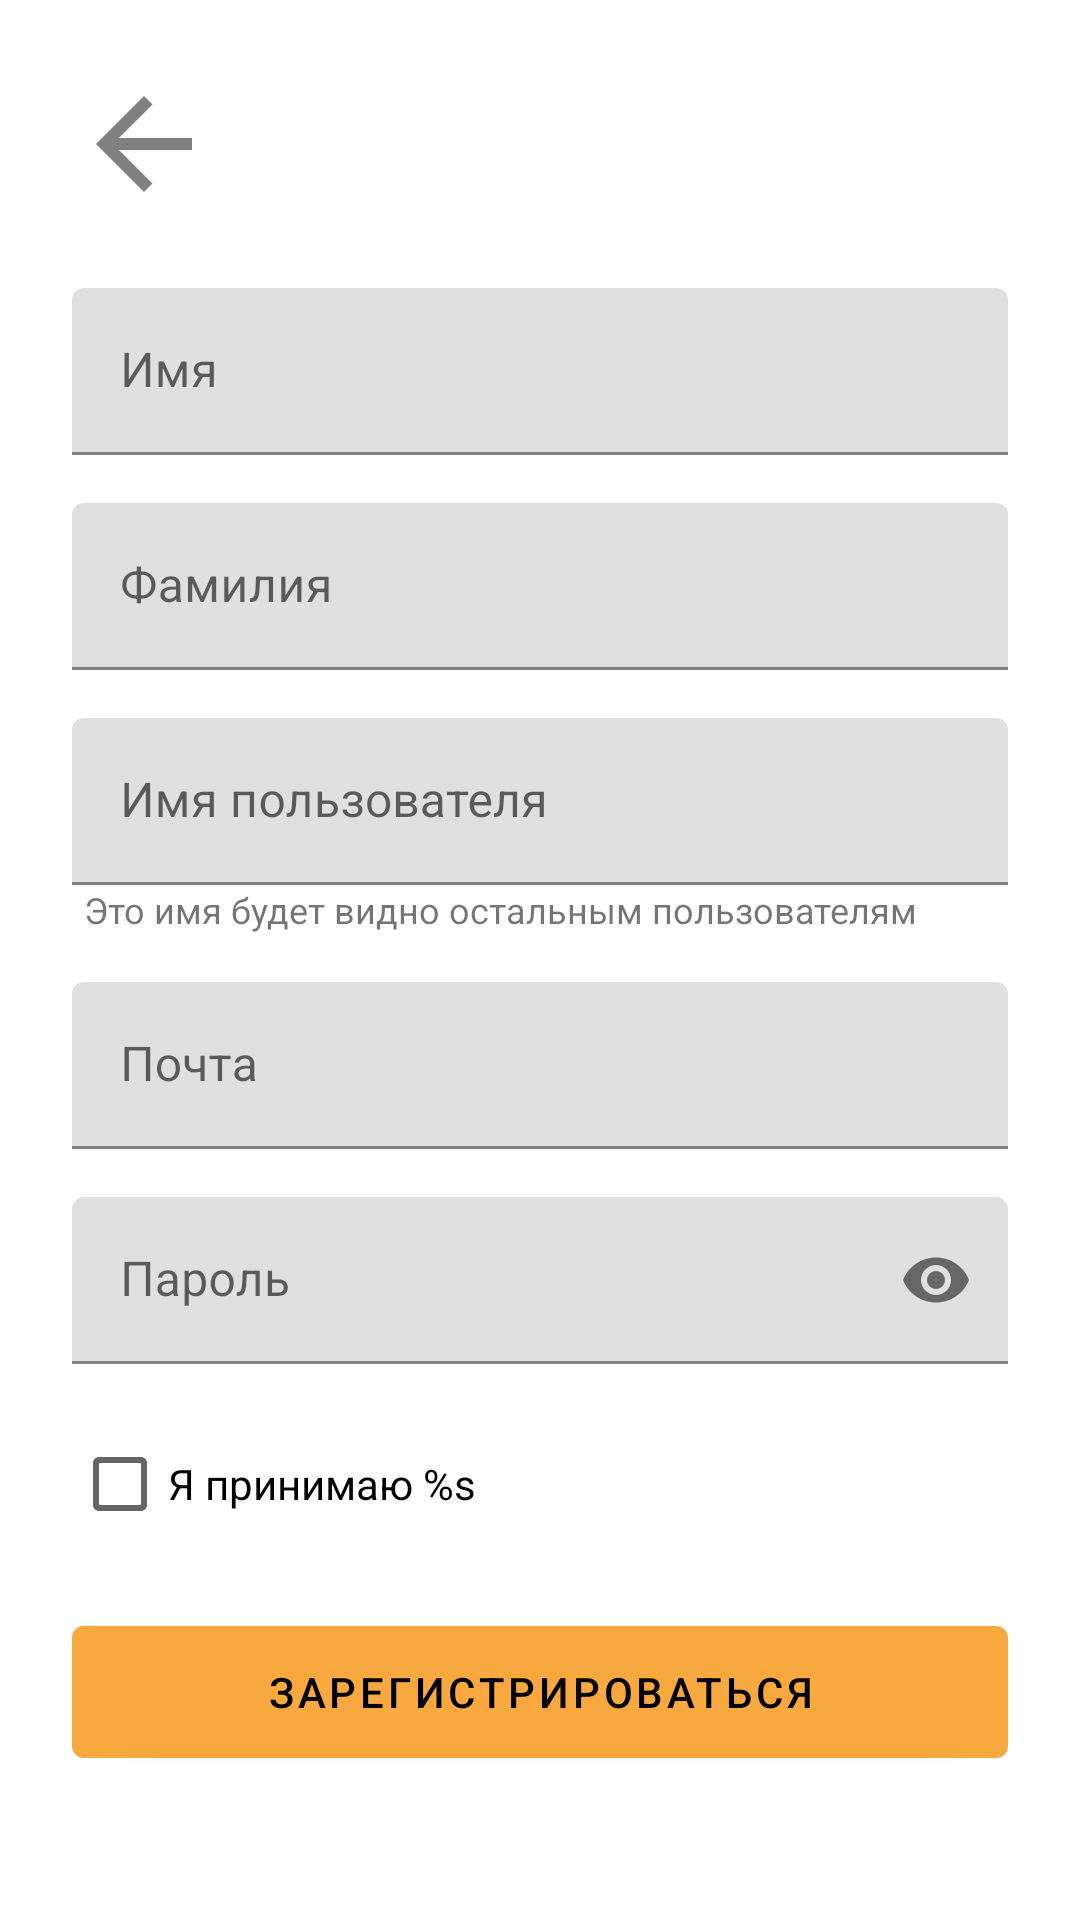

Icons on this 1080*1920 Android screen, each with the point to tap as (x,y):
arrow back: (144,144)
